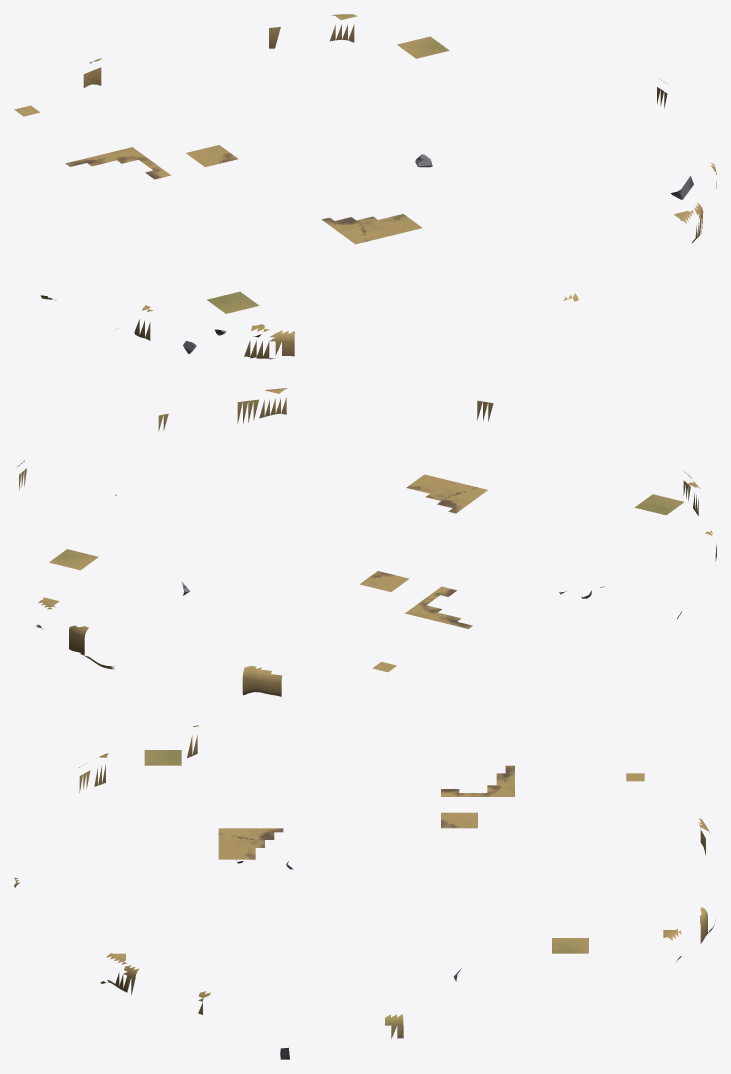
The picture shows the model from 3 angles, top to bottom: view 1: azimuth 30°, elevation 25°; view 2: azimuth 150°, elevation 25°; view 3: azimuth 270°, elevation 25°; orthographic projection. The views are drawn at different scales.
Parts seen in each view (by area): view 1: Grass_-1_-2_0, Grass_-3_1_0, Grass_-4_-3_0_100, Grass_2_2_0_110, Grass_-2_1_0_100; view 2: Grass_-1_-2_0, Grass_-2_4_0_110, Grass_-3_1_0, Grass_-2_1_0_100, Grass_2_2_0_110, Grass_-4_-3_0_100; view 3: Grass_-1_-2_0, Grass_-3_1_0, Grass_-2_1_0_100, Grass_-4_-3_0_100, Grass_2_2_0_110.
Part boxes in pixels (x1=…): Grass_-1_-2_0: x1=321, y1=214, x2=422, y2=244; Grass_-3_1_0: x1=65, y1=147, x2=170, y2=179; Grass_-4_-3_0_100: x1=207, y1=291, x2=259, y2=313; Grass_2_2_0_110: x1=397, y1=36, x2=449, y2=58; Grass_-2_1_0_100: x1=186, y1=145, x2=237, y2=167; Grass_-1_-2_0: x1=406, y1=474, x2=487, y2=513; Grass_-2_4_0_110: x1=242, y1=665, x2=282, y2=696; Grass_-3_1_0: x1=405, y1=586, x2=472, y2=628; Grass_-2_1_0_100: x1=359, y1=571, x2=409, y2=591; Grass_2_2_0_110: x1=49, y1=549, x2=98, y2=570; Grass_-4_-3_0_100: x1=635, y1=494, x2=683, y2=515; Grass_-1_-2_0: x1=218, y1=828, x2=283, y2=859; Grass_-3_1_0: x1=441, y1=765, x2=514, y2=796; Grass_-2_1_0_100: x1=441, y1=812, x2=477, y2=828; Grass_-4_-3_0_100: x1=144, y1=750, x2=181, y2=765; Grass_2_2_0_110: x1=552, y1=938, x2=588, y2=953.
Size of the model in its own units: 628 by 96.06 by 607.
Materials: 25 (25 with a texture image).
